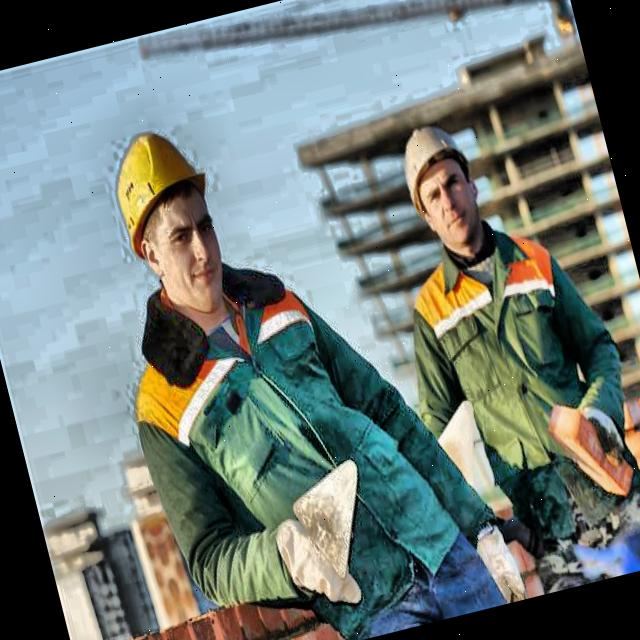helmet: (82, 90, 250, 336), (380, 107, 496, 267)
